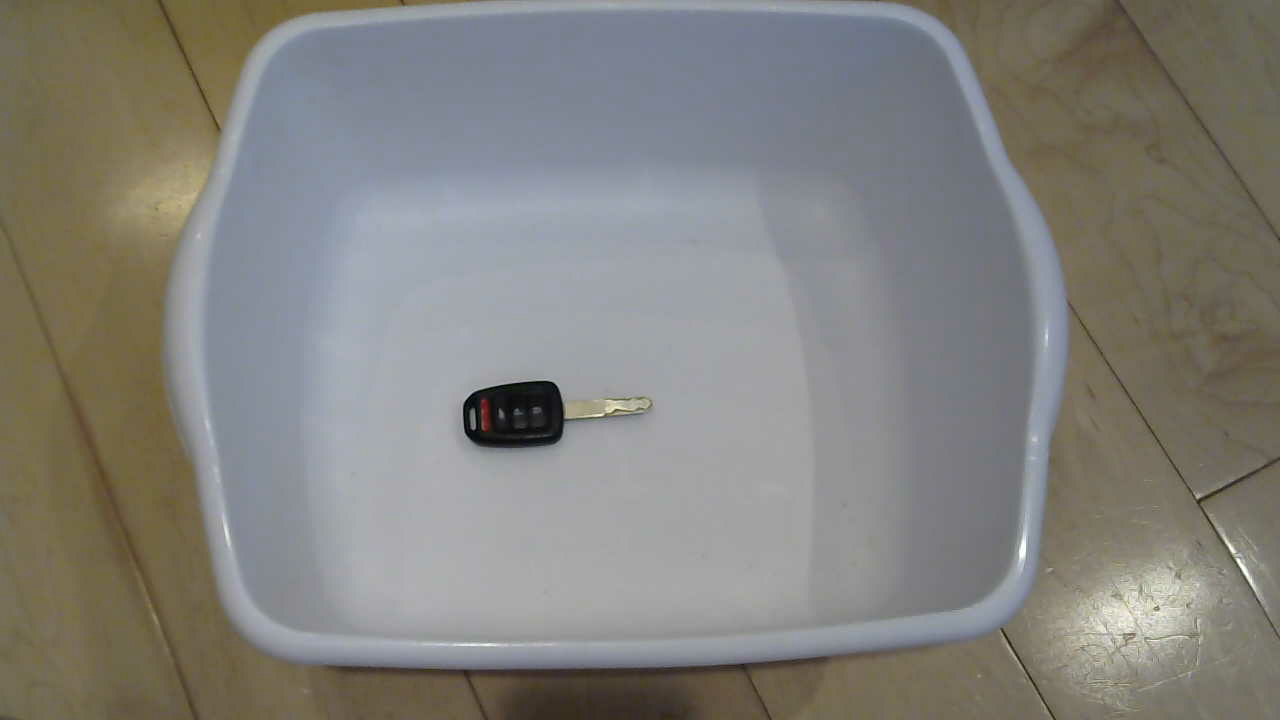key: (450, 373, 665, 462)
